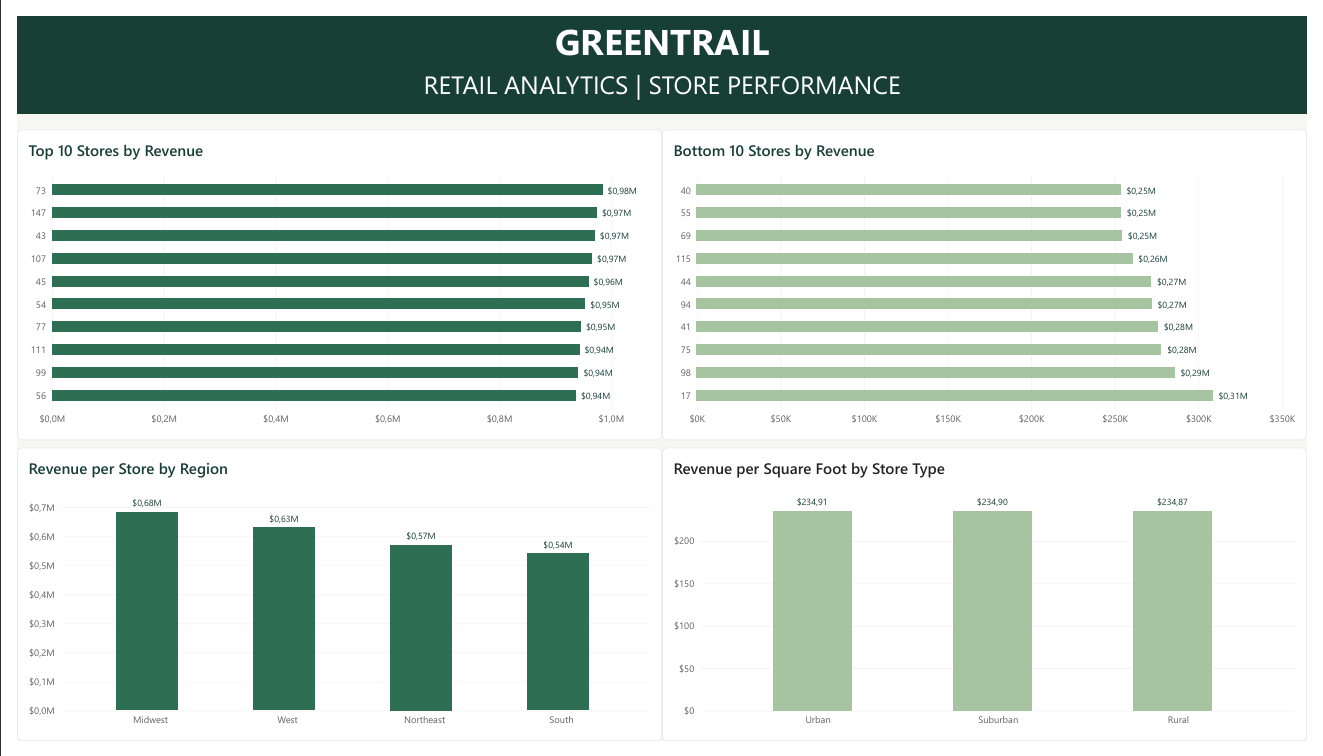

This screenshot's page, from the dashboard's own definition file:
{"tool":"powerbi","page":{"name":"Store Performance","canvas":[1920,1080],"ordinal":1},"visuals":[{"type":"shape","box":[0,0,1920,146.1],"z":0},{"type":"textbox","box":[0,75.6,1920.2,71.3],"z":1000},{"type":"textbox","box":[0,0,1920,75.6],"z":2000},{"type":"clusteredBarChart","title":"Top 10 Stores by Revenue","fields":{"Category":["stores.store_id"],"Y":["transactions.Total Revenue"]},"box":[0,168.8,960,463.6],"z":3000},{"type":"clusteredBarChart","title":"Bottom 10 Stores by Revenue","fields":{"Category":["stores.store_id"],"Y":["transactions.Total Revenue"]},"box":[960,168.8,960,463.6],"z":4000},{"type":"clusteredColumnChart","title":"Revenue per Store by Region","fields":{"Category":["stores.region"],"Y":["campaign_costs.Revenue per Store"]},"box":[0,643,960,437],"z":4001},{"type":"clusteredColumnChart","title":"Revenue per Square Foot by Store Type","fields":{"Category":["stores.store_type"],"Y":["campaign_costs.Revenue per Sq Ft"]},"box":[960,643,960,437],"z":4002}]}

Visuals, with their boxes in screenshot pixels (x1, y1, x2, y2), scaled from the page's 1920x1080 canvas onto the 1323x756 screenshot:
shape: 0, 0, 1322, 102
textbox: 0, 53, 1322, 103
textbox: 0, 0, 1322, 53
"Top 10 Stores by Revenue" clusteredBarChart: 0, 118, 662, 443
"Bottom 10 Stores by Revenue" clusteredBarChart: 662, 118, 1322, 443
"Revenue per Store by Region" clusteredColumnChart: 0, 450, 662, 755
"Revenue per Square Foot by Store Type" clusteredColumnChart: 662, 450, 1322, 755
